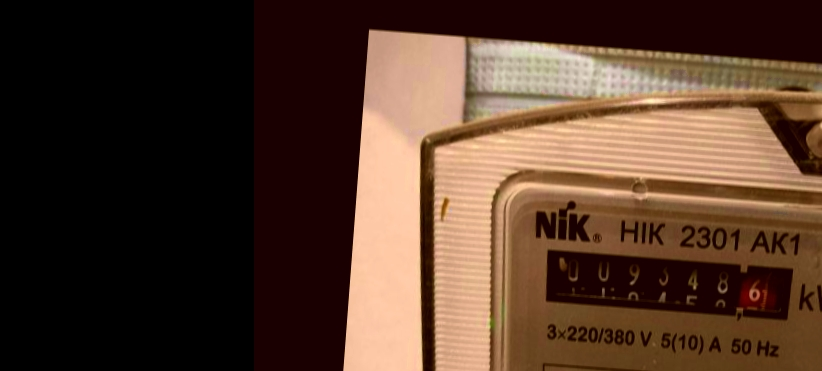0: (564, 256, 582, 283), (595, 255, 611, 282)
3: (656, 261, 672, 287)
4: (683, 261, 703, 292)
6: (745, 274, 764, 304)
8: (715, 266, 732, 295)
9: (626, 261, 642, 289)
screen: (525, 233, 808, 332)
